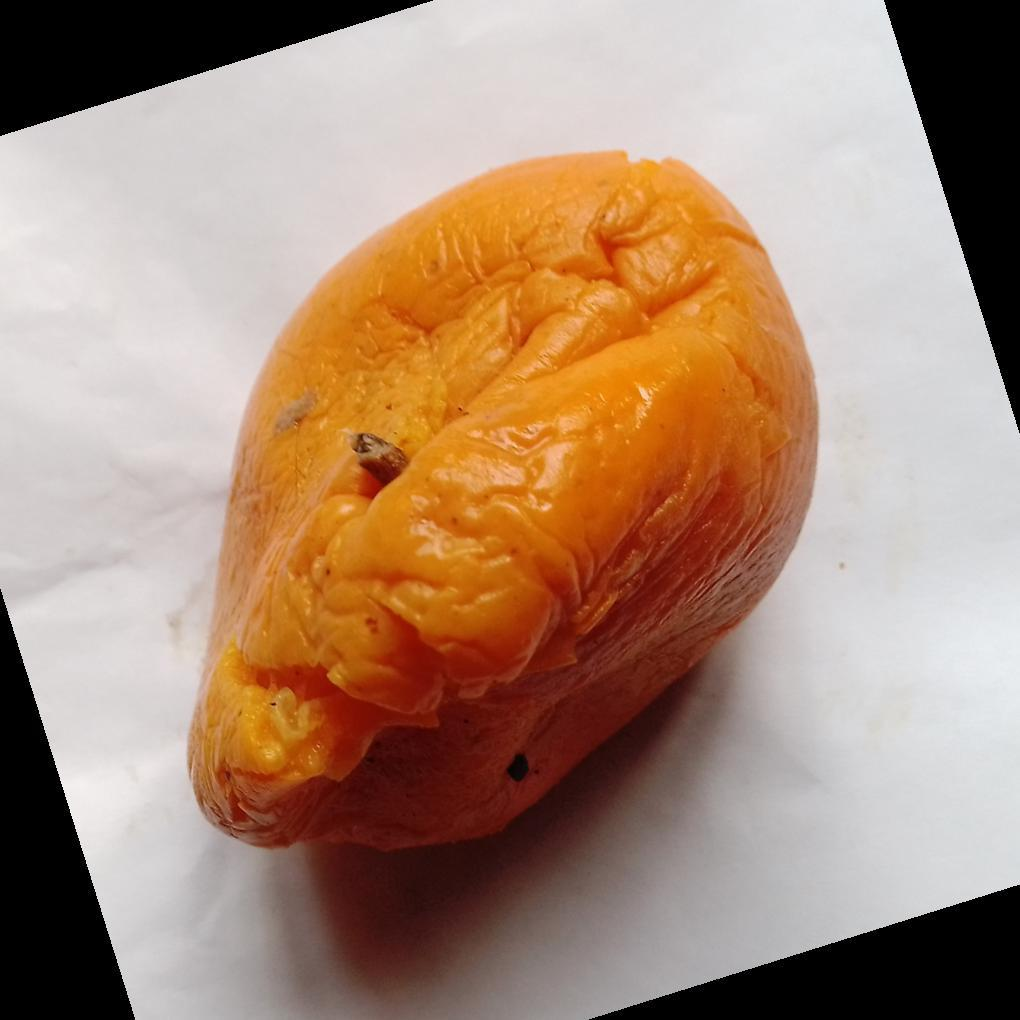FreshOrange: (183, 150, 821, 858)
